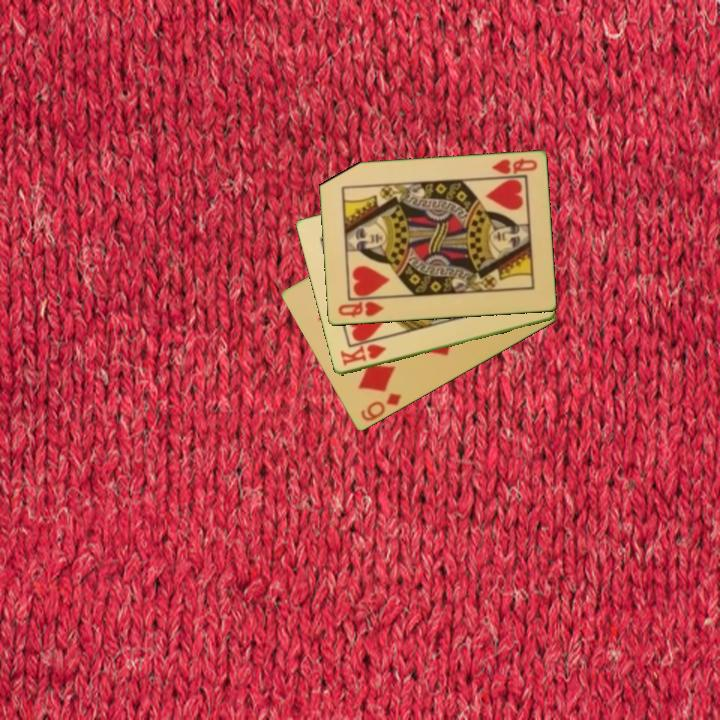6d: (357, 390, 404, 424)
Kh: (337, 341, 389, 369)
Qh: (334, 298, 387, 321), (488, 155, 540, 177)
